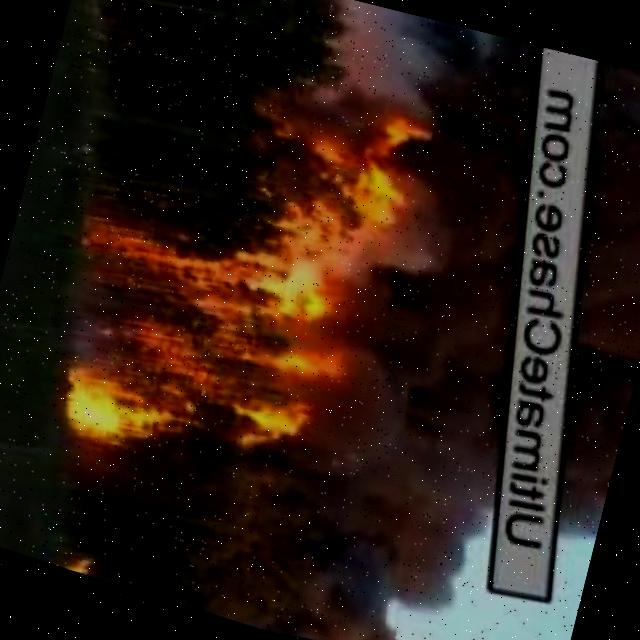fire: (26, 195, 389, 517), (253, 68, 447, 260), (50, 544, 117, 588)
